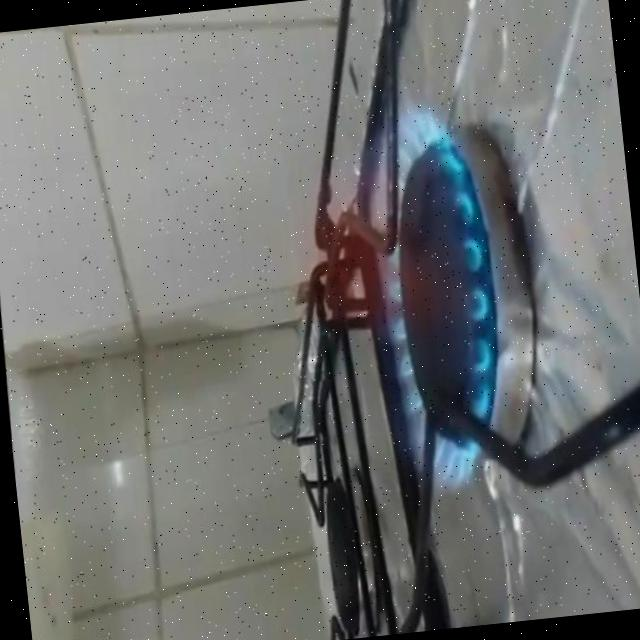fire: (250, 93, 516, 511)
